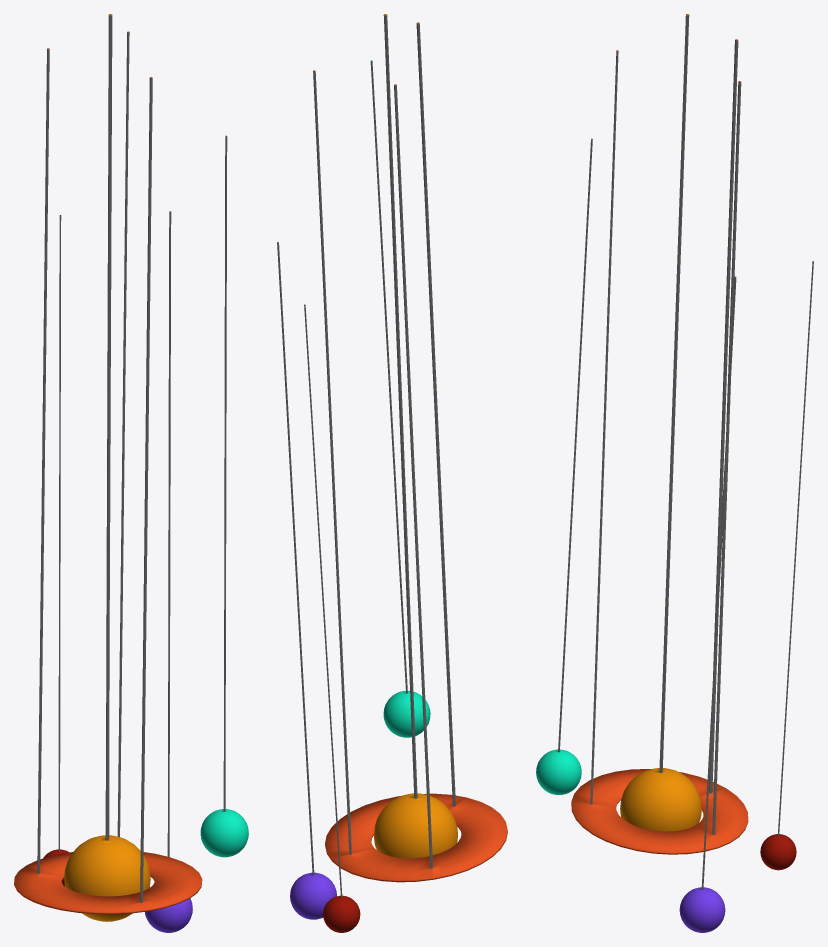
The model's file is Planet1.fbx.
3 renders of one model, left to right at view 1: azimuth 30°, elevation 25°; view 2: azimuth 150°, elevation 25°; view 3: azimuth 270°, elevation 25°, orthographic. The views are drawn at different scales.
Parts seen in each view (by area): view 1: Cylinder.012; view 2: Cylinder.012; view 3: Cylinder.012.
Boxes of the visible parts, x1,y1,x2,y2 form: Cylinder.012: (14,14,248,932); Cylinder.012: (277,14,507,932); Cylinder.012: (536,14,813,932).
Size of the model in its own units: 28431 by 137283 by 39061.
